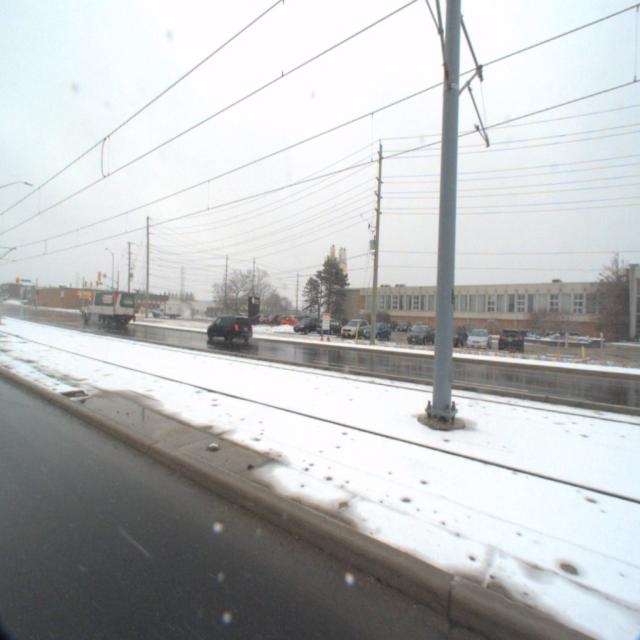Car: (207, 315, 261, 346), (335, 320, 369, 343), (402, 326, 434, 348), (462, 329, 490, 354), (356, 323, 389, 344), (495, 330, 521, 356), (310, 319, 343, 339)
Truck: (79, 288, 138, 326), (148, 304, 182, 320)
